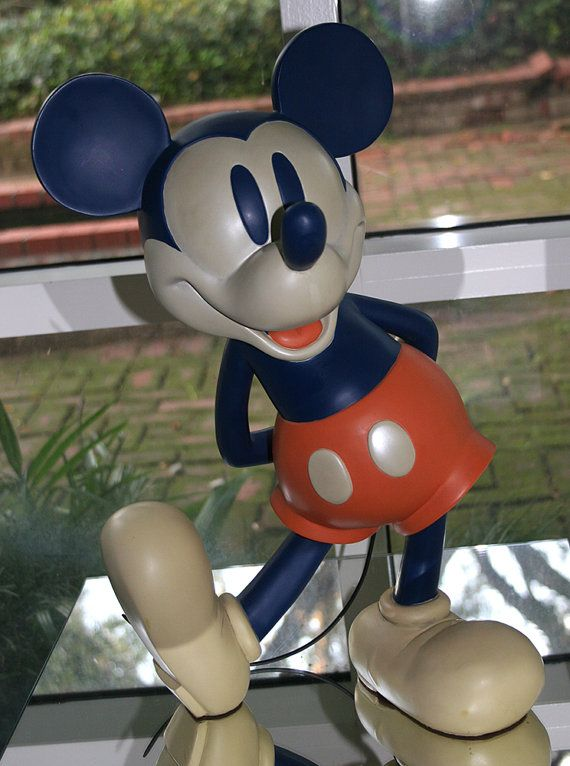Mickey: (29, 19, 445, 364)
